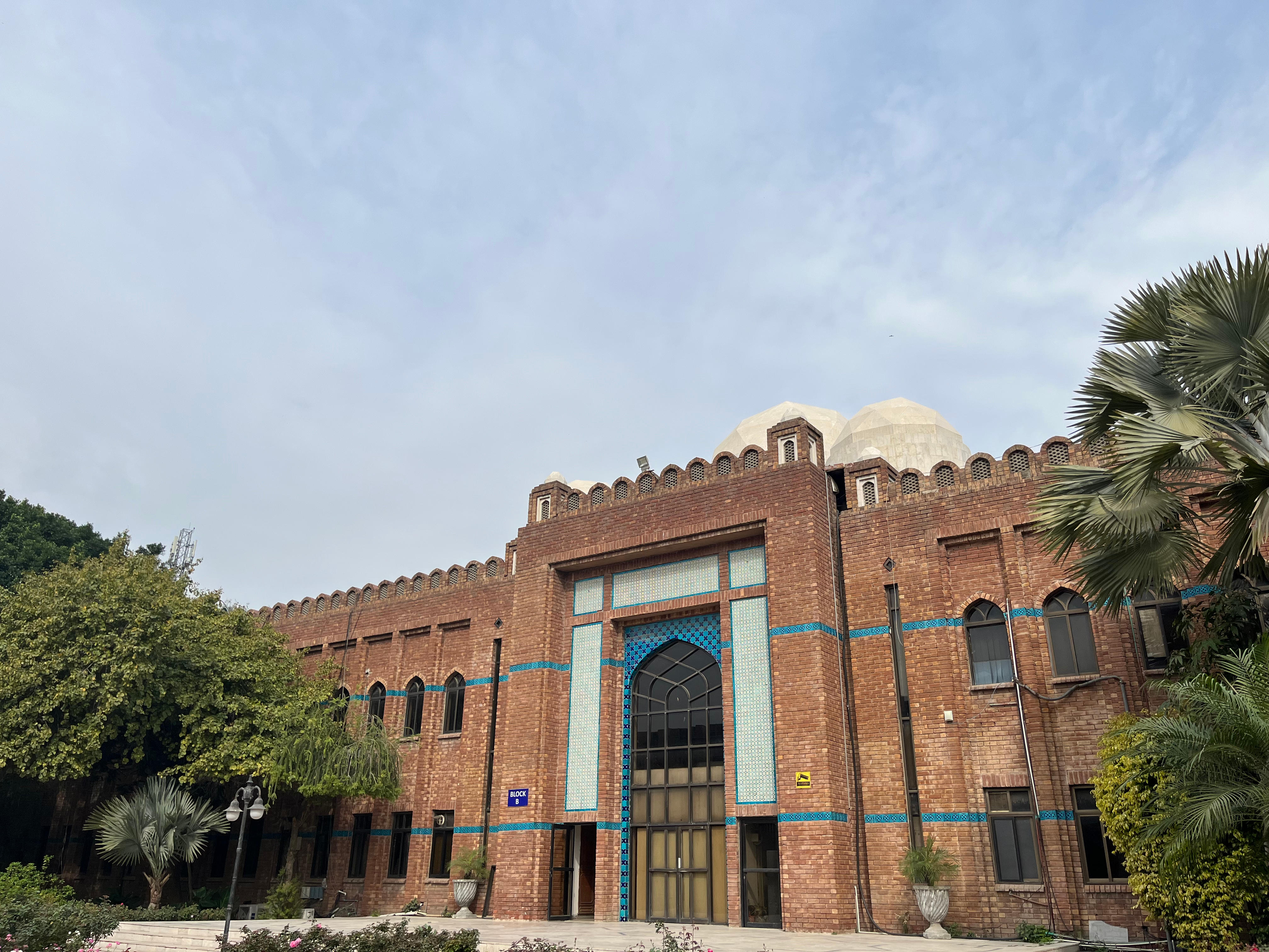Block B: (155, 399, 1176, 934)
